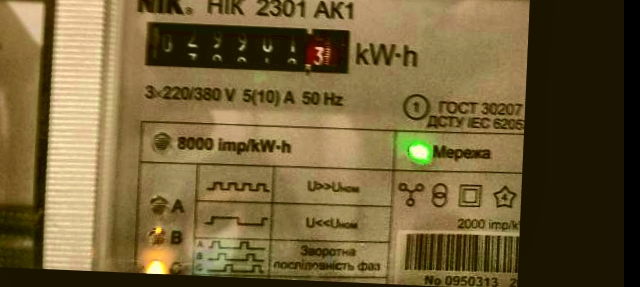0: (259, 29, 274, 54), (158, 31, 175, 53)
1: (284, 31, 298, 54)
2: (183, 29, 200, 49)
3: (310, 43, 324, 66)
9: (234, 30, 249, 52), (209, 29, 222, 51)
screen: (131, 10, 361, 84)
